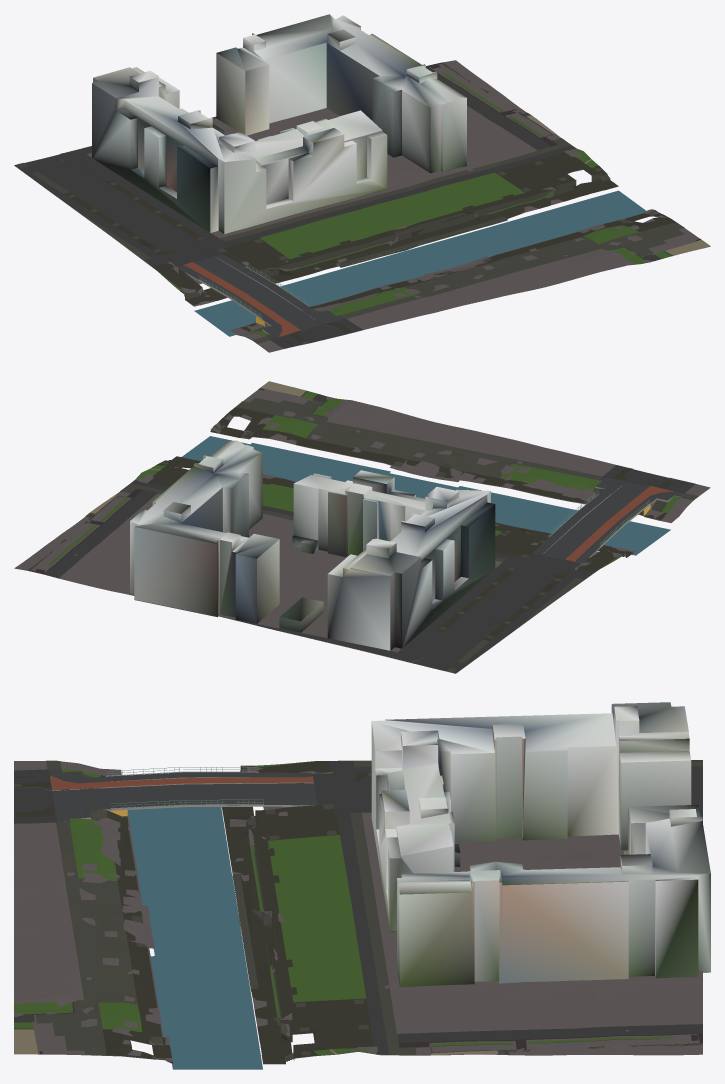
3 views of the same model, one above another, from view 1: azimuth 30°, elevation 25°; view 2: azimuth 150°, elevation 25°; view 3: azimuth 270°, elevation 25° (orthographic). The views are drawn at different scales.
Parts seen in each view (by area): view 1: c_m16_p06; view 2: c_m16_p06; view 3: c_m16_p06.
Part boxes in pixels (x1,y1,x2,y2): c_m16_p06: [14, 14, 710, 352]; c_m16_p06: [14, 381, 710, 673]; c_m16_p06: [14, 702, 710, 1069].
Bounding box in the file's own units: 128 × 27.15 × 129.
